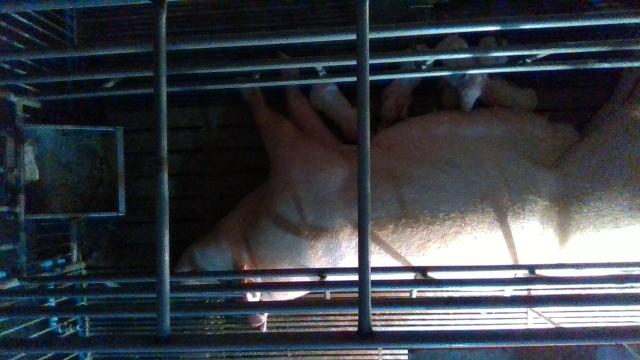piglet: (379, 44, 431, 127), (434, 35, 485, 112), (310, 85, 360, 142)
sow-sleep-lactate: (174, 53, 640, 333)
